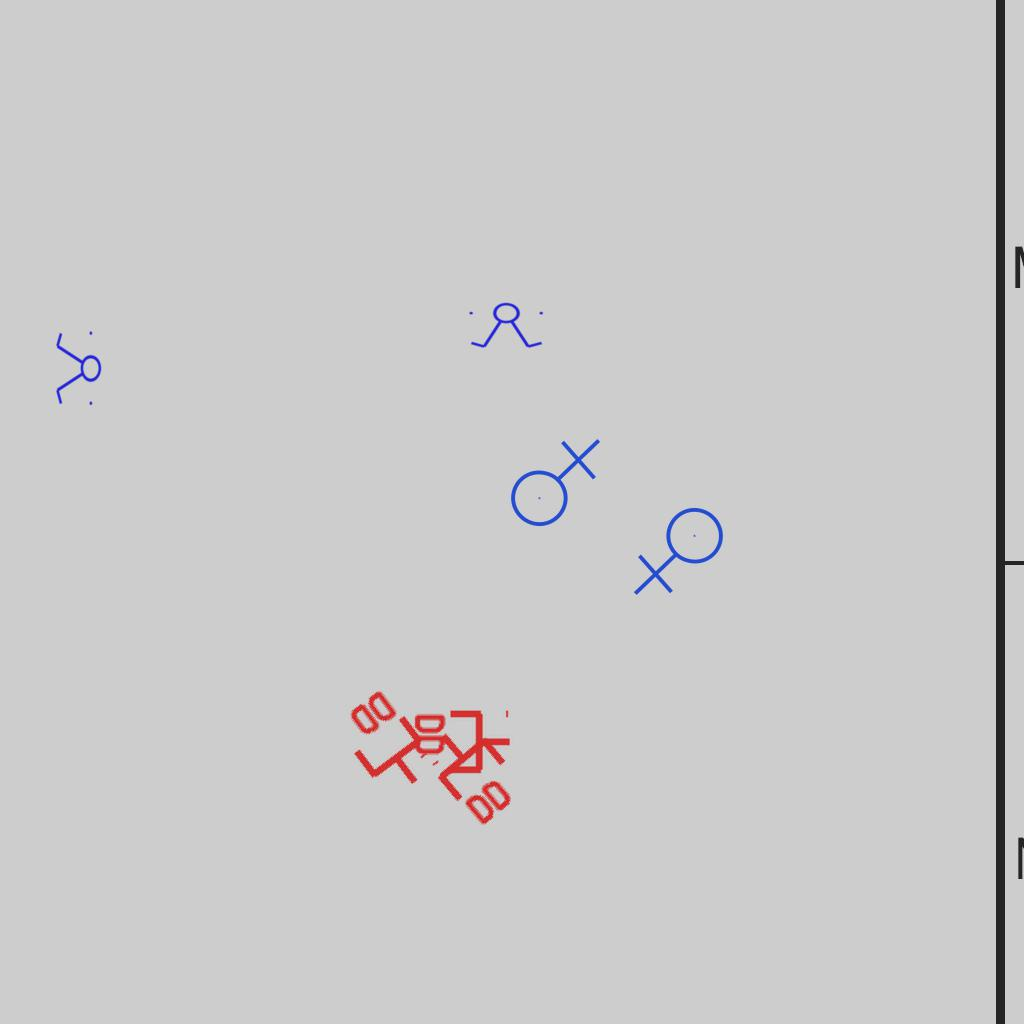Datenanschluss_zweifach: (415, 709, 536, 834), (325, 682, 444, 807), (410, 709, 513, 778)
Elektroanschluss_allgemein_230V_Geraeteanschlussdose_230V: (502, 434, 601, 528), (633, 506, 732, 600)
Serienschalter: (54, 327, 102, 411), (465, 302, 549, 350)
